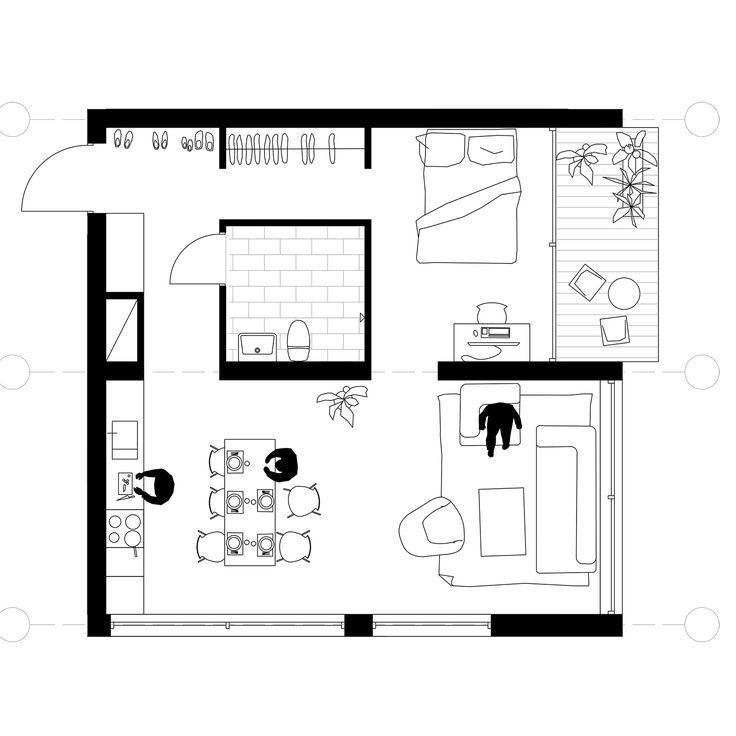door: (17, 142, 86, 216), (170, 236, 228, 292)
room: (115, 380, 374, 611), (397, 384, 606, 612), (377, 135, 551, 361), (226, 227, 361, 359)
wall: (89, 108, 623, 130), (85, 211, 110, 632), (439, 357, 626, 382), (492, 612, 624, 643), (223, 359, 374, 381), (549, 133, 559, 366), (220, 213, 374, 228), (363, 223, 375, 361), (103, 356, 145, 384), (218, 285, 229, 381), (135, 292, 146, 376), (343, 610, 373, 638), (216, 121, 229, 173), (109, 289, 140, 304), (364, 126, 373, 171)
window: (599, 382, 629, 610), (114, 612, 340, 640), (378, 610, 489, 638)
